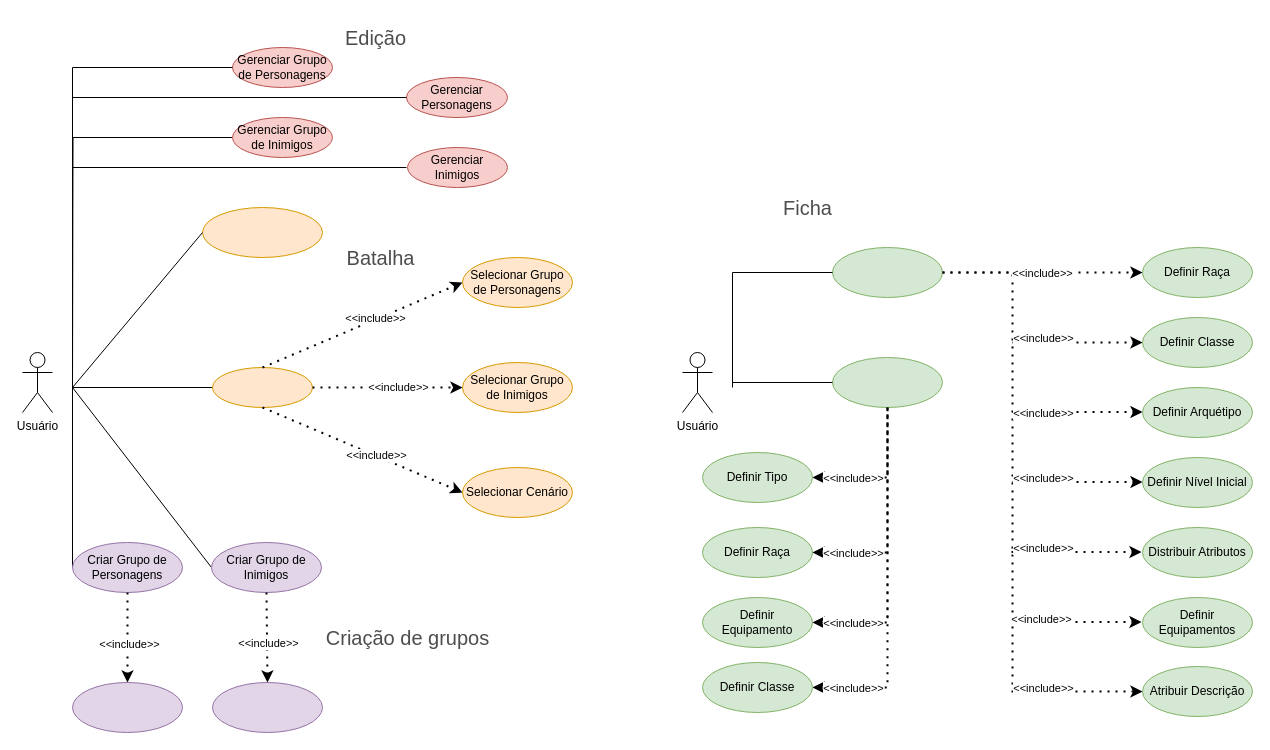
Some shapes in this 1270 by 750 pixel diagram are drawn without their labels. Each missing label, with the centre of its shape:
Configurar Nova Batalha: pixel 262 387
Criar Ficha de Inimigo: pixel 887 382
Criar Ficha de Personagem: pixel 887 272
Gerenciar Andamento da Batalha: pixel 262 232
Selecionar Inimigo: pixel 267 707
Selecionar Personagem: pixel 127 707
